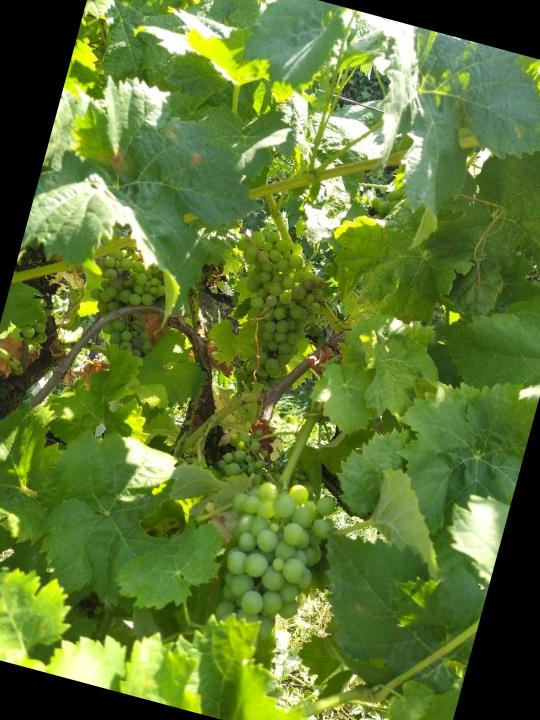grape: (196, 465, 344, 653), (200, 220, 341, 399), (74, 238, 178, 371)
